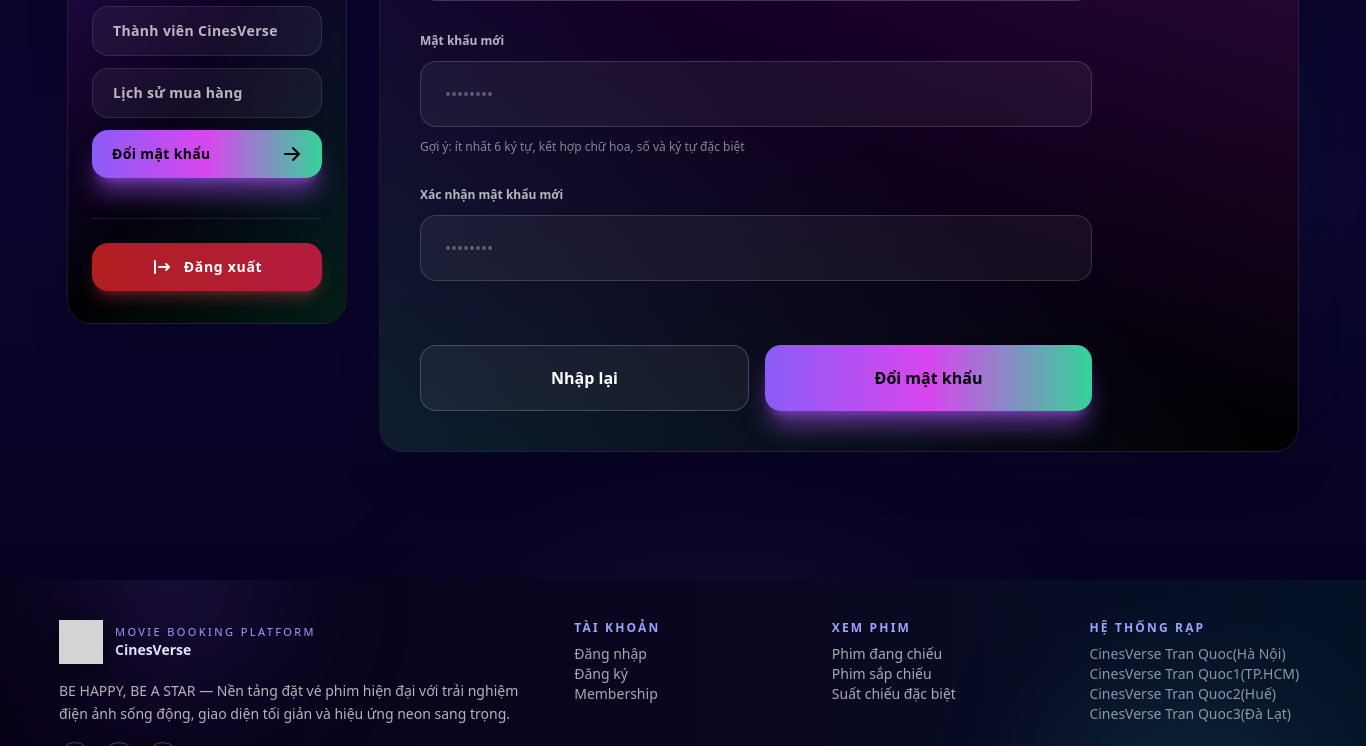
Test: AccountPasswordPage › validates empty fields
(page scrolled)
Click the button "Đổi mật khẩu" below "Xác nhận mật khẩu mới" at (928,378), box [765,345,1092,411]
(page scrolled)
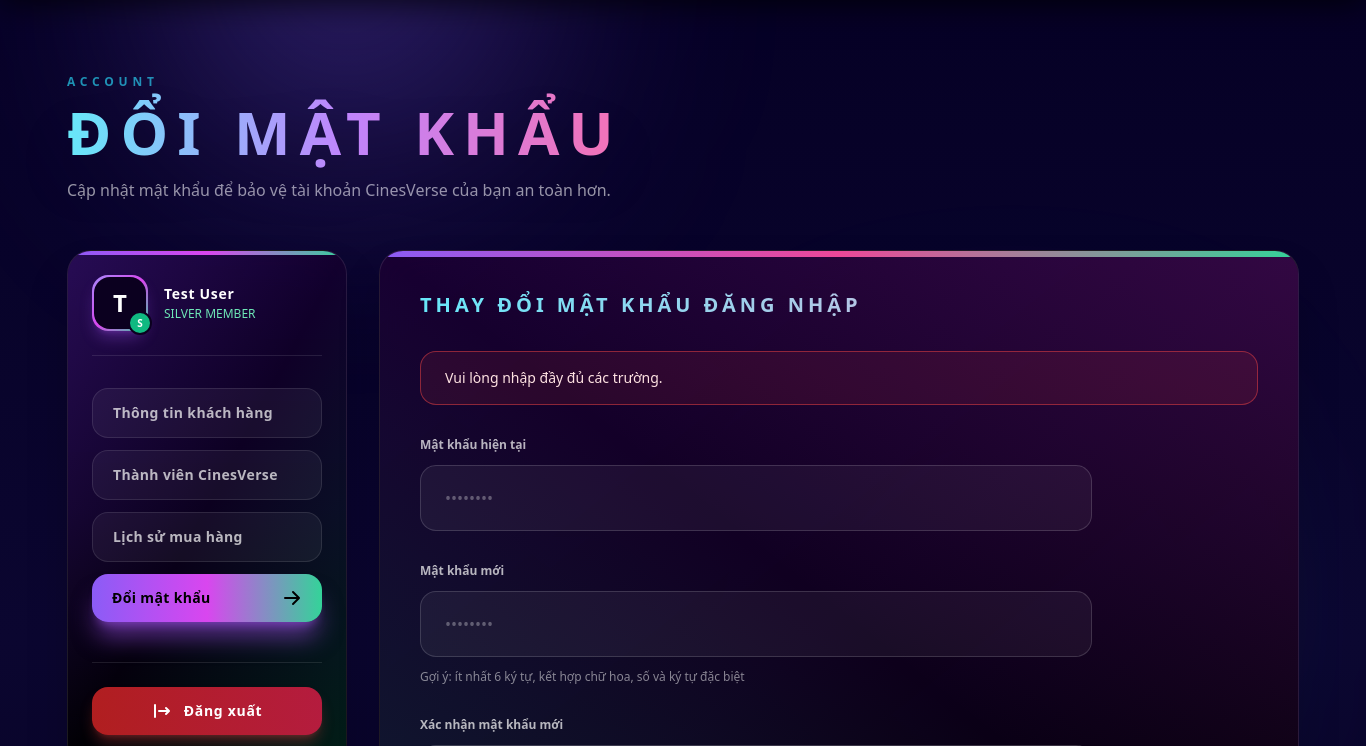
expect the text "Vui lòng nhập đầy đủ các trường." is shown: met, box [420,351,1258,405]
